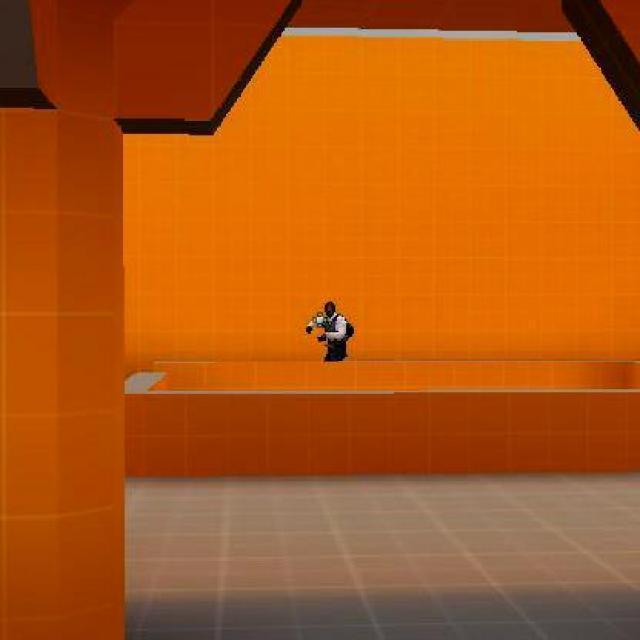T: (308, 300, 350, 362)
T_HEAD: (321, 300, 337, 320)
